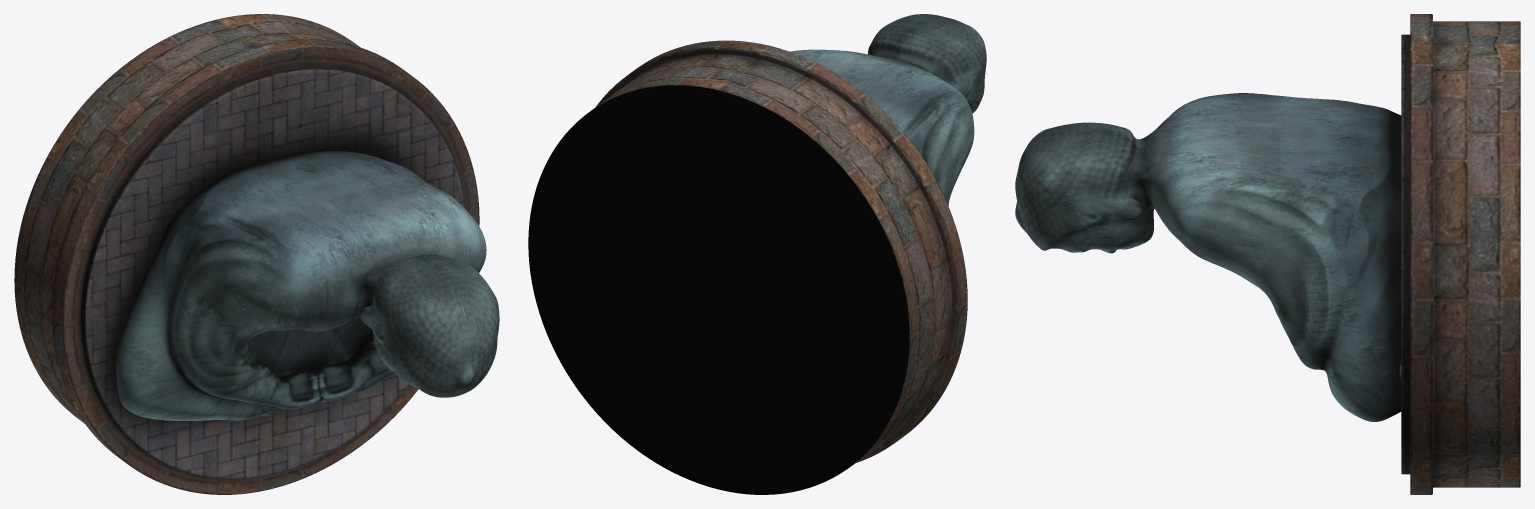
The model's file is 12334_statue_v1_l3.obj.
3 renders of one model, left to right at view 1: azimuth 30°, elevation 25°; view 2: azimuth 150°, elevation 25°; view 3: azimuth 270°, elevation 25°, orthographic. The views are drawn at different scales.
Parts seen in each view (by area): view 1: 12334_Statue_v1; view 2: 12334_Statue_v1; view 3: 12334_Statue_v1.
Part boxes in pixels (<box>): 12334_Statue_v1: <box>14,14,499,494</box>; 12334_Statue_v1: <box>528,14,986,494</box>; 12334_Statue_v1: <box>1015,14,1520,494</box>.
Size of the model in its own units: 498 by 498 by 524.
Materials: 1 (1 with a texture image).
